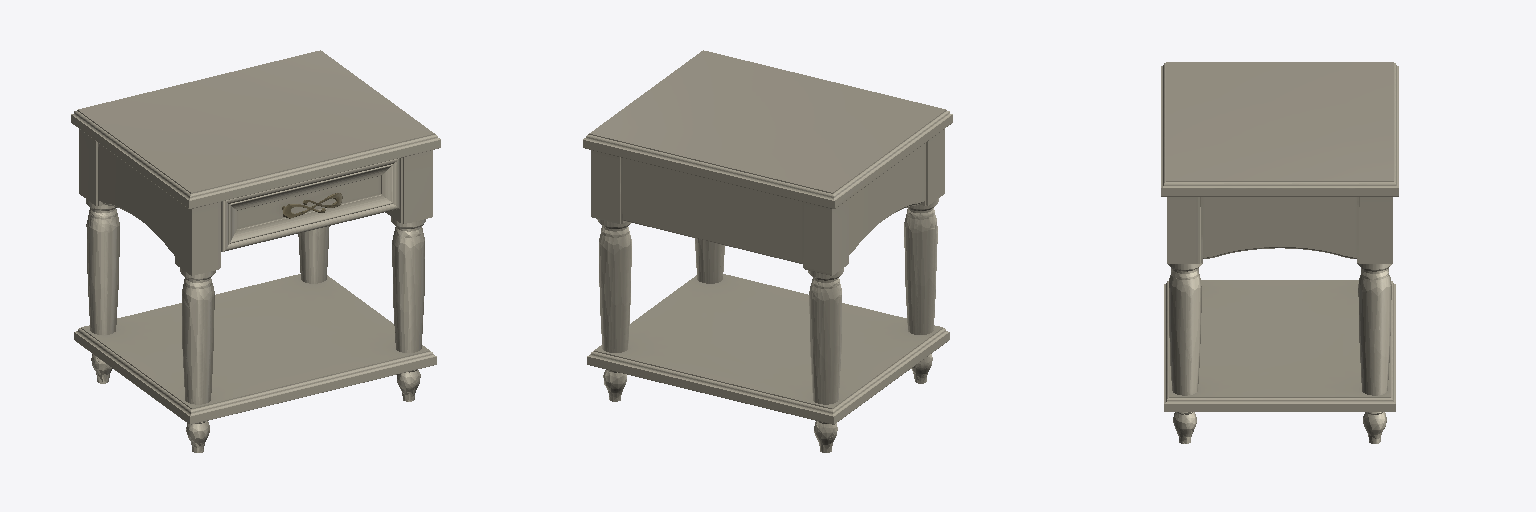
3 views of the same model, side by side, from view 1: azimuth 30°, elevation 25°; view 2: azimuth 150°, elevation 25°; view 3: azimuth 270°, elevation 25° (orthographic).
Visible parts, largest first — view 1: solid_001; view 2: solid_001; view 3: solid_001.
Boxes of the visible parts, <box> form: solid_001: <box>71,50,440,452</box>; solid_001: <box>583,50,952,452</box>; solid_001: <box>1161,62,1398,443</box>.
Size of the model in its own units: 0.49 by 0.5 by 0.4.
1 materials, 1 textured.